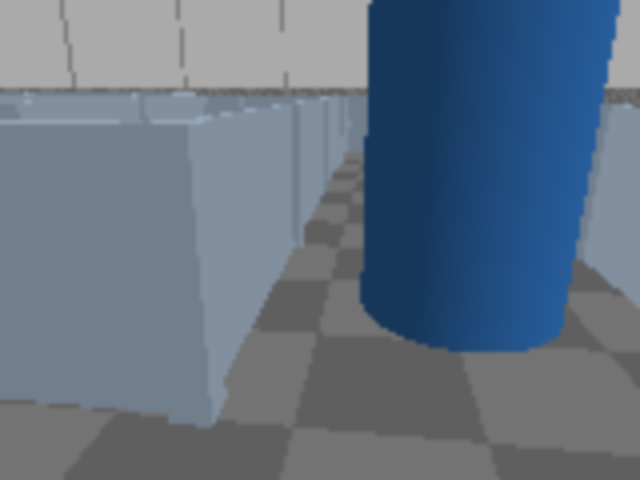person: (361, 0, 638, 353)
